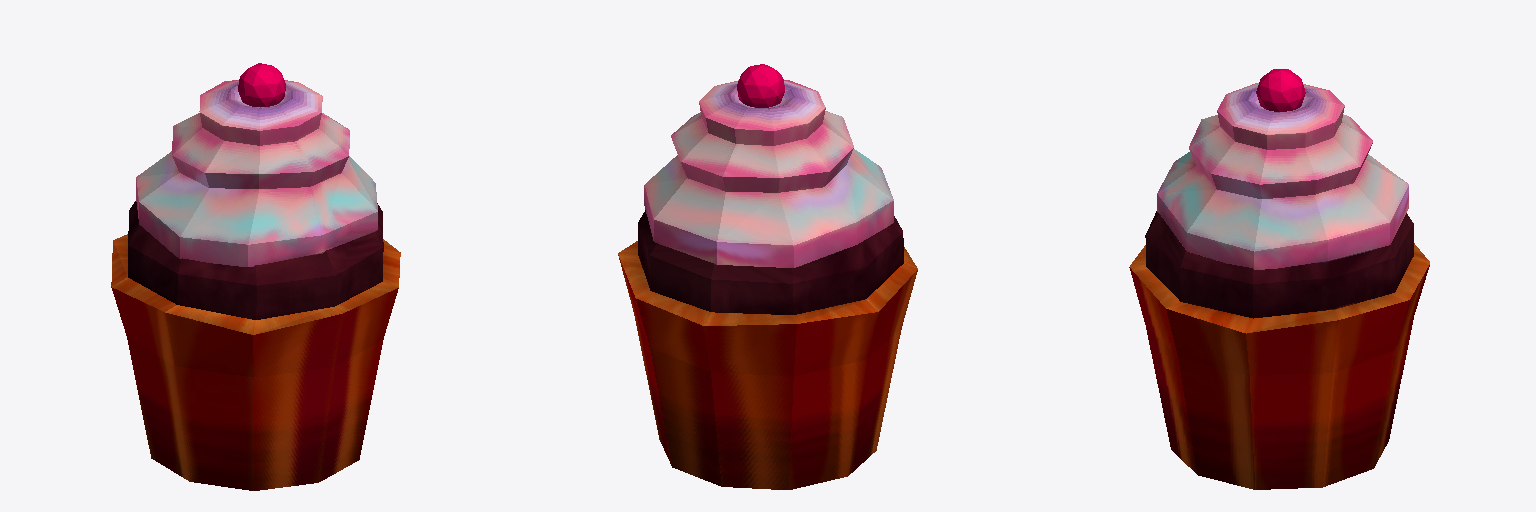
3 views of the same model, side by side, from view 1: azimuth 30°, elevation 25°; view 2: azimuth 150°, elevation 25°; view 3: azimuth 270°, elevation 25° (orthographic).
Visible parts, largest first — view 1: The_Bottom_Of_The_Muffin_Materi��l.009_0, Muffin_Top_Materi��l.008_0, Cherry_Materi��l.022_0; view 2: The_Bottom_Of_The_Muffin_Materi��l.009_0, Muffin_Top_Materi��l.008_0, Cherry_Materi��l.022_0; view 3: The_Bottom_Of_The_Muffin_Materi��l.009_0, Muffin_Top_Materi��l.008_0, Cherry_Materi��l.022_0.
Part boxes in pixels (x1,y1,x2,y2): The_Bottom_Of_The_Muffin_Materi��l.009_0: (111,201,400,490); Muffin_Top_Materi��l.008_0: (136,80,377,266); Cherry_Materi��l.022_0: (238,63,285,107); The_Bottom_Of_The_Muffin_Materi��l.009_0: (618,210,917,489); Muffin_Top_Materi��l.008_0: (644,80,893,267); Cherry_Materi��l.022_0: (737,64,784,107); The_Bottom_Of_The_Muffin_Materi��l.009_0: (1129,211,1429,489); Muffin_Top_Materi��l.008_0: (1157,83,1408,269); Cherry_Materi��l.022_0: (1256,69,1305,111).
Size of the model in its own units: 1.07 by 1.51 by 1.09.
Materials: 3 (1 with a texture image).